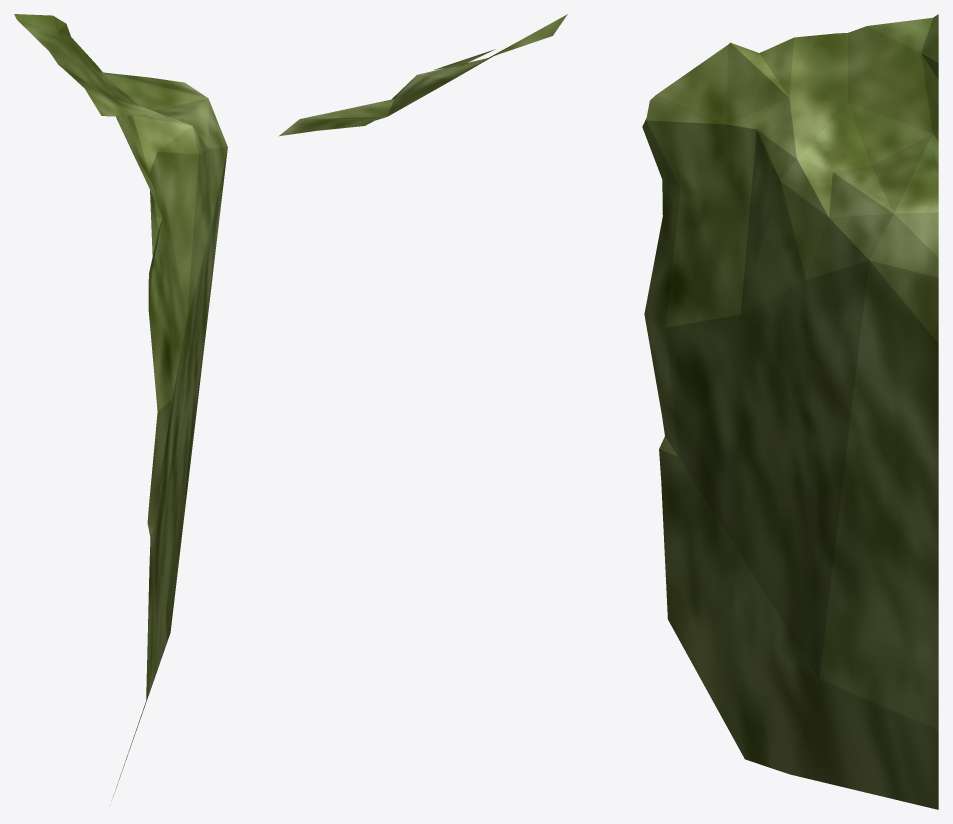
3 views of the same model, side by side, from view 1: azimuth 30°, elevation 25°; view 2: azimuth 150°, elevation 25°; view 3: azimuth 270°, elevation 25° (orthographic). The views are drawn at different scales.
Size of the model in its own units: 0.5097 by 1.85 by 0.6667.
Materials: 1 (1 with a texture image).
